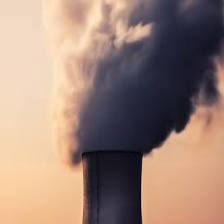smoke: (44, 1, 218, 153)
